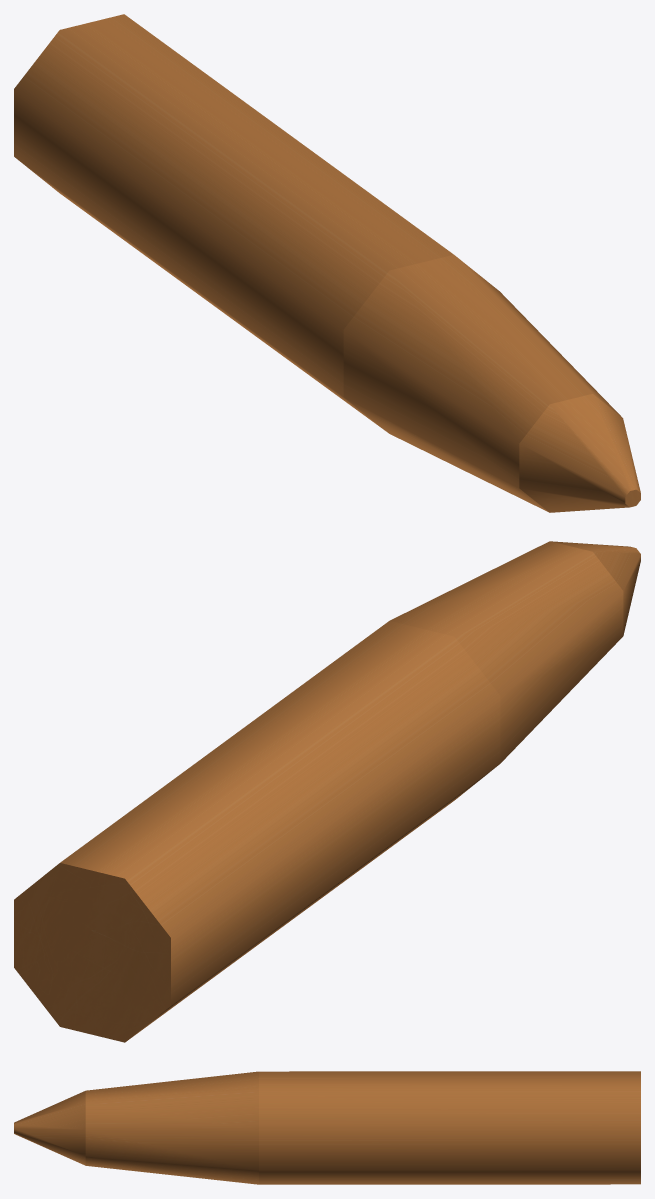
The model's file is Bullet.gltf.
3 views of the same model, one above another, from view 1: azimuth 30°, elevation 25°; view 2: azimuth 150°, elevation 25°; view 3: azimuth 270°, elevation 25° (orthographic). The views are drawn at different scales.
Visible parts, largest first — view 1: Sniper Bullet; view 2: Sniper Bullet; view 3: Sniper Bullet.
Boxes of the visible parts, box(x1,y1,x2,y2) form: Sniper Bullet: box(14, 14, 640, 512); Sniper Bullet: box(14, 541, 640, 1042); Sniper Bullet: box(14, 1071, 640, 1184).
Size of the model in its own units: 0.0309 by 0.0308 by 0.1842.
1 material, 1 textured.
